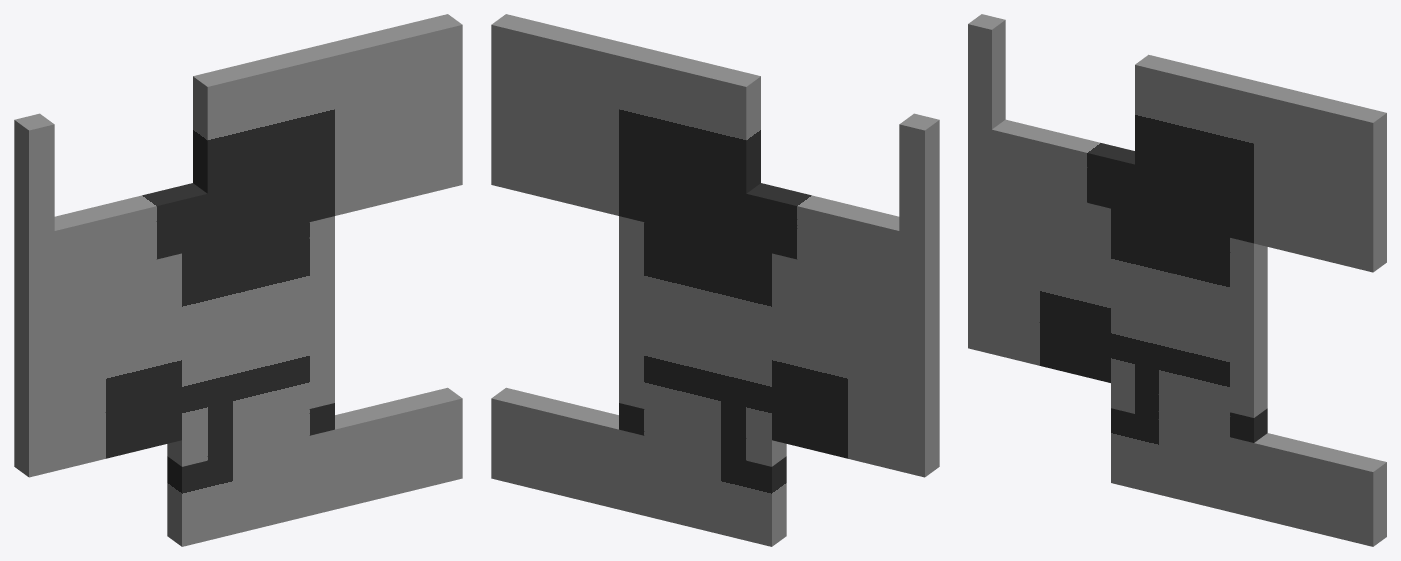
The model's file is ICON_BRK_Laying_Down.fbx.
The picture shows the model from 3 angles, left to right: view 1: azimuth 30°, elevation 25°; view 2: azimuth 150°, elevation 25°; view 3: azimuth 330°, elevation 25°; orthographic projection. The views are drawn at different scales.
Parts seen in each view (by area): view 1: ICON_BRK_Laying_Down; view 2: ICON_BRK_Laying_Down; view 3: ICON_BRK_Laying_Down.
Boxes of the visible parts, x1,y1,x2,y2 form: ICON_BRK_Laying_Down: (14,14,462,546); ICON_BRK_Laying_Down: (491,14,939,546); ICON_BRK_Laying_Down: (968,14,1386,546).
Size of the model in its own units: 17 by 17 by 1.
Materials: 1 (1 with a texture image).
